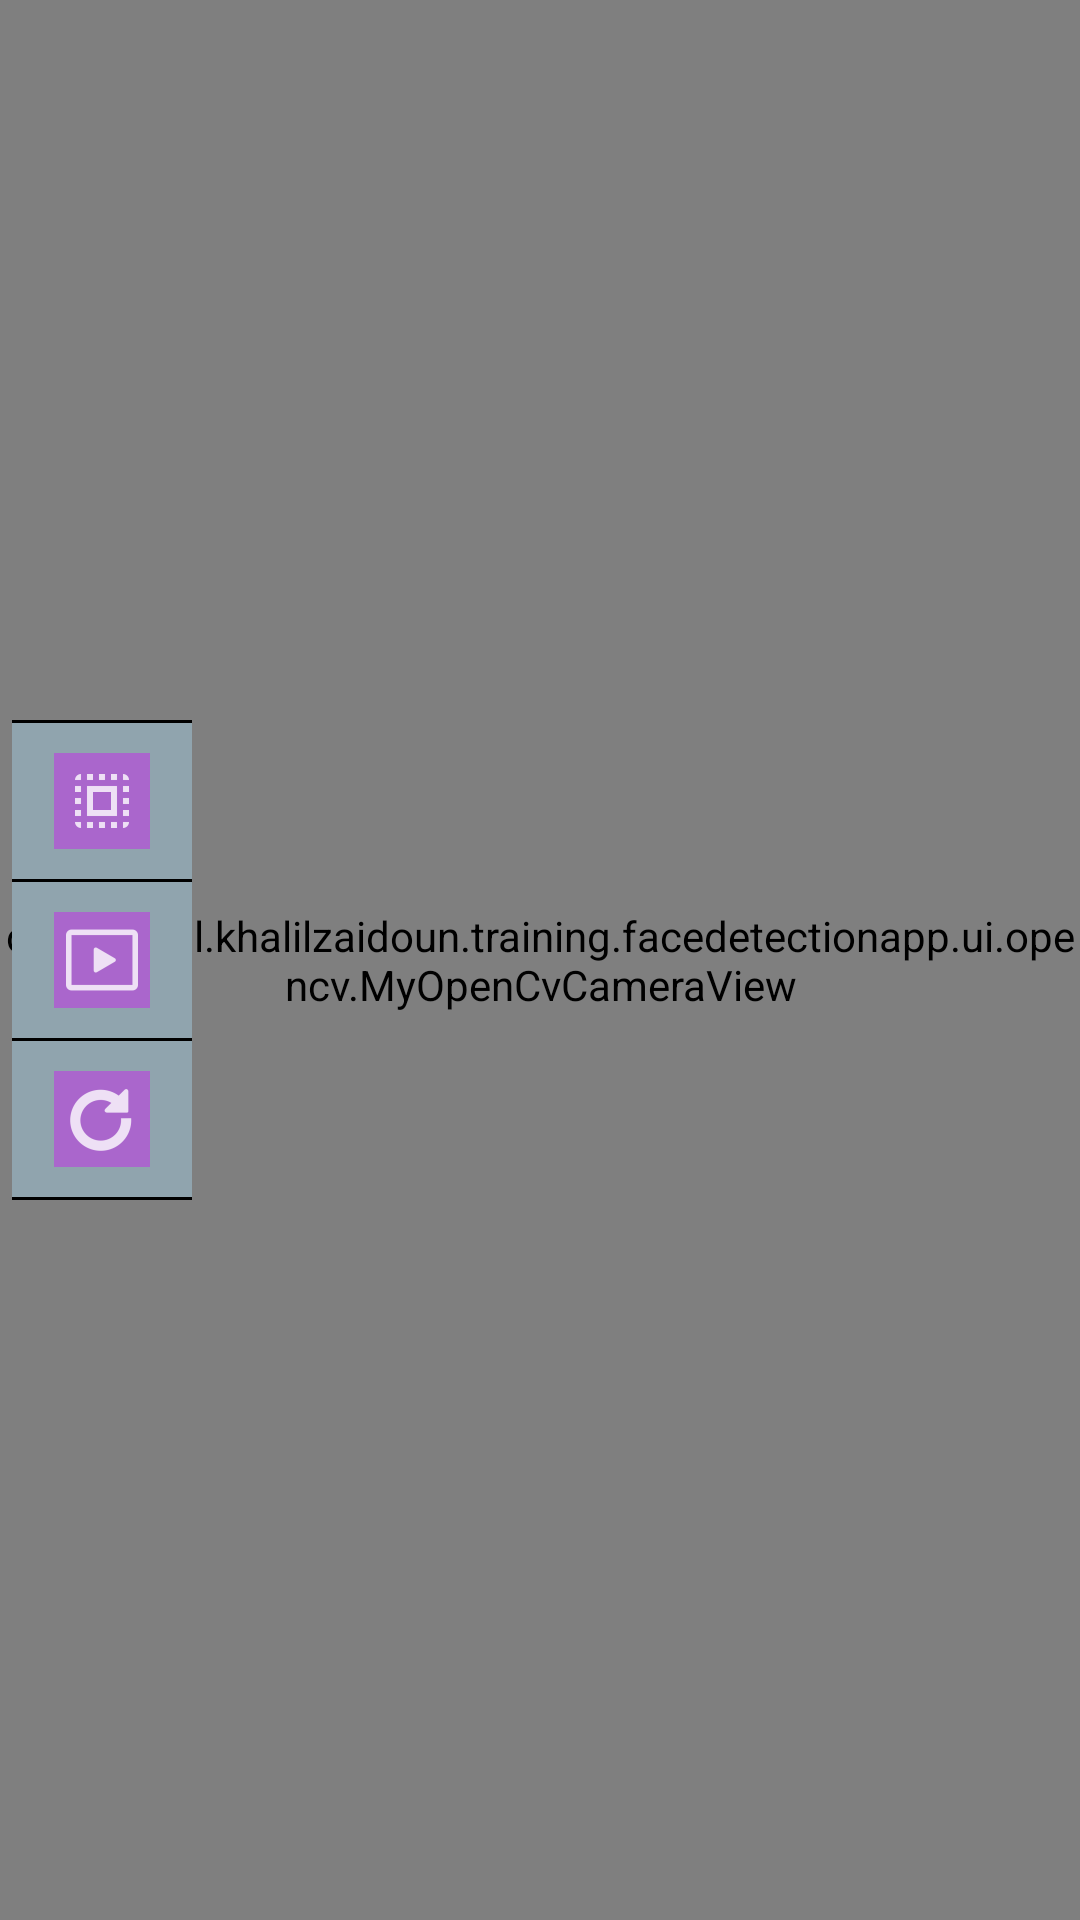

Where to tap for icons on this 1080px x 1920px app screen, as (x,y):
Recreate: (102,1119)
select: (102,801)
start: (102,960)
